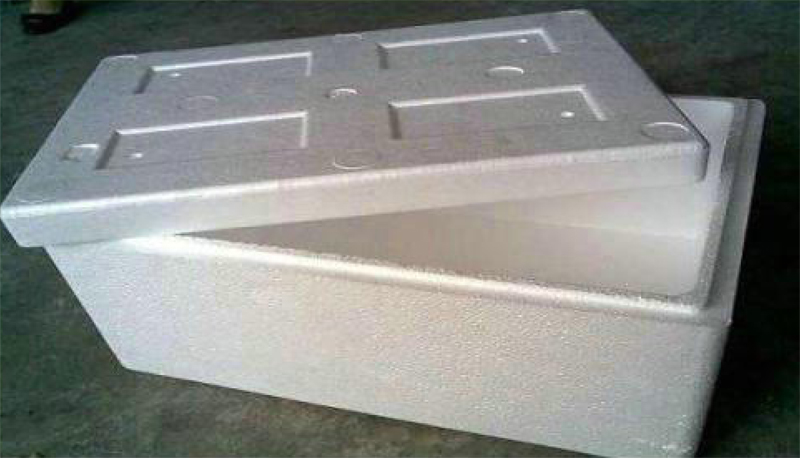Boxes: (2, 14, 764, 454)
